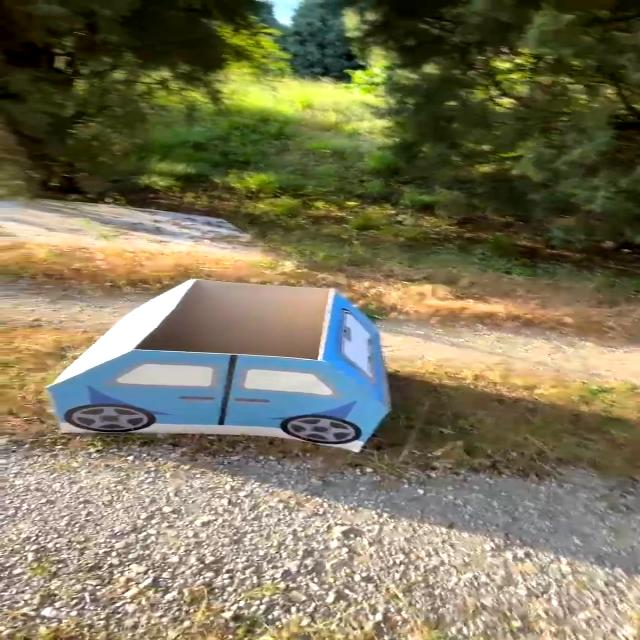blue_car: (0, 241, 411, 491)
